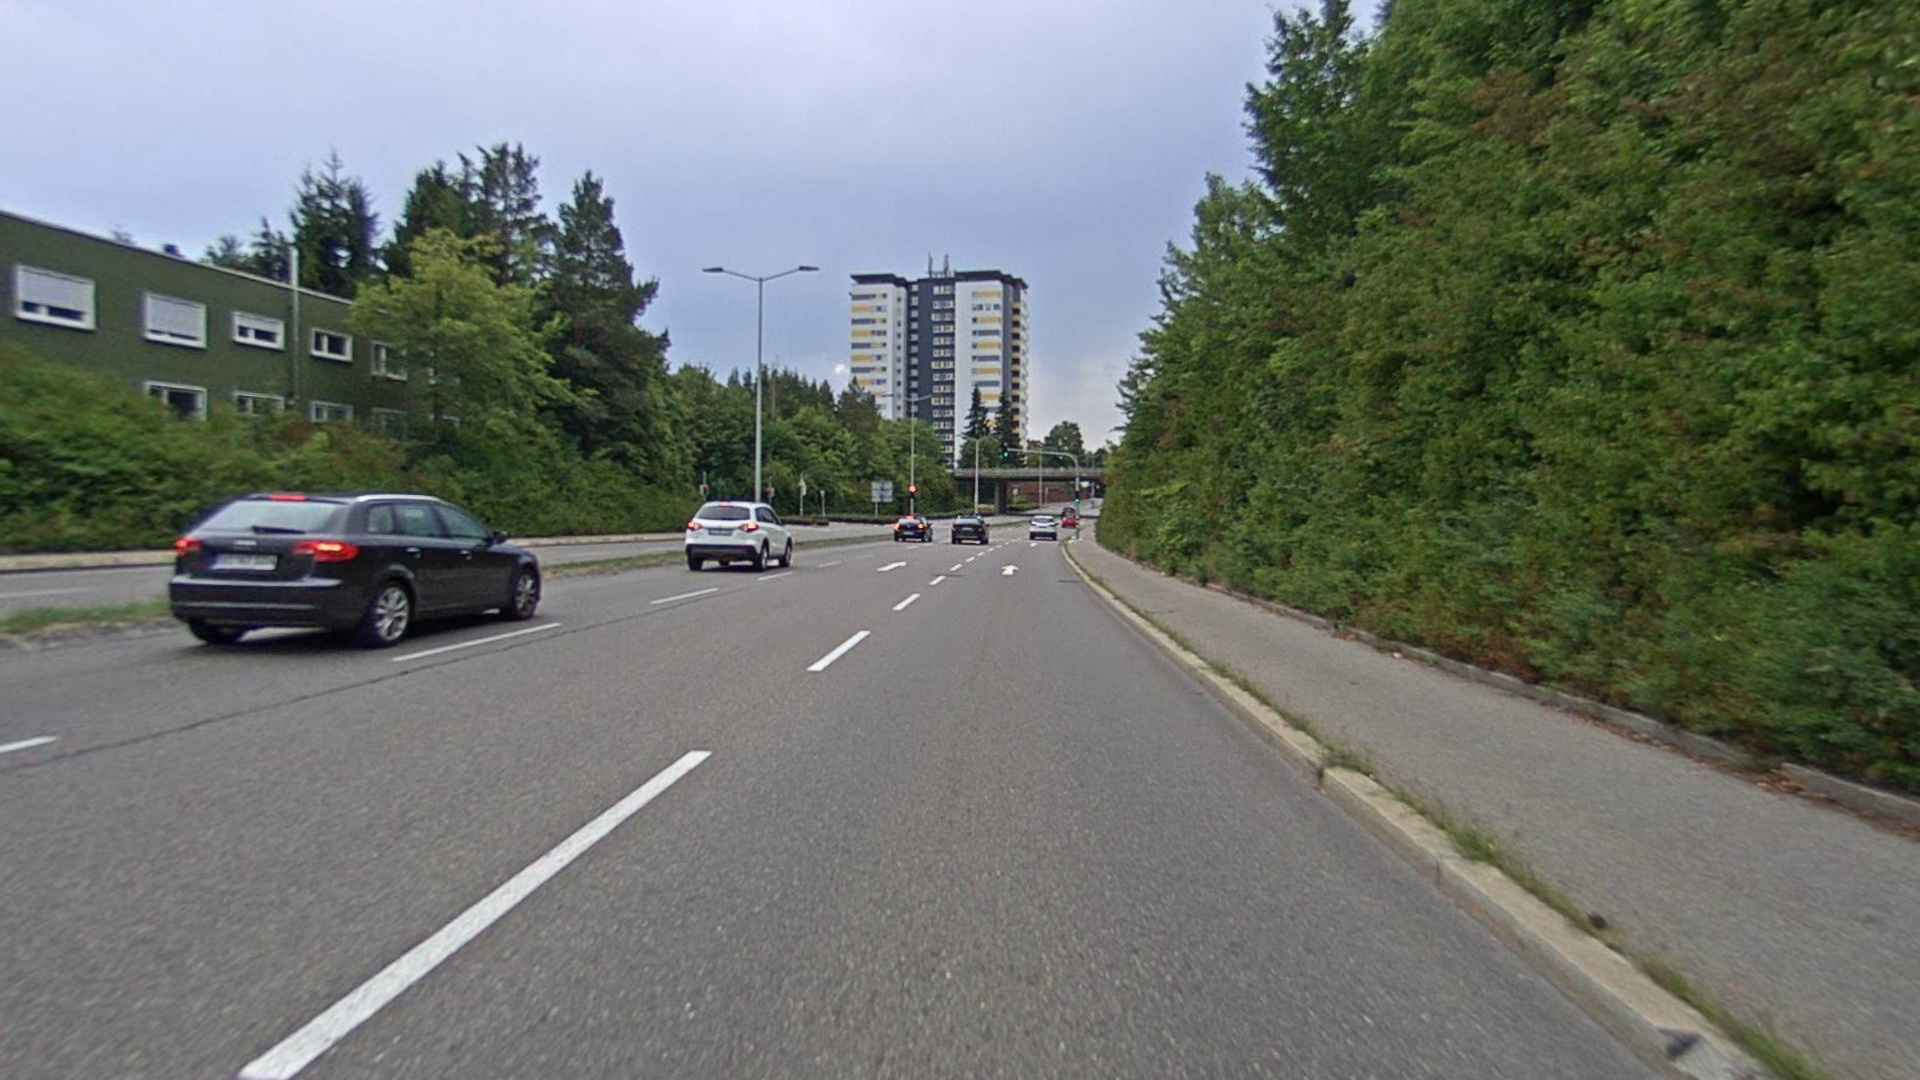car: (166, 489, 545, 649), (684, 501, 794, 574)
